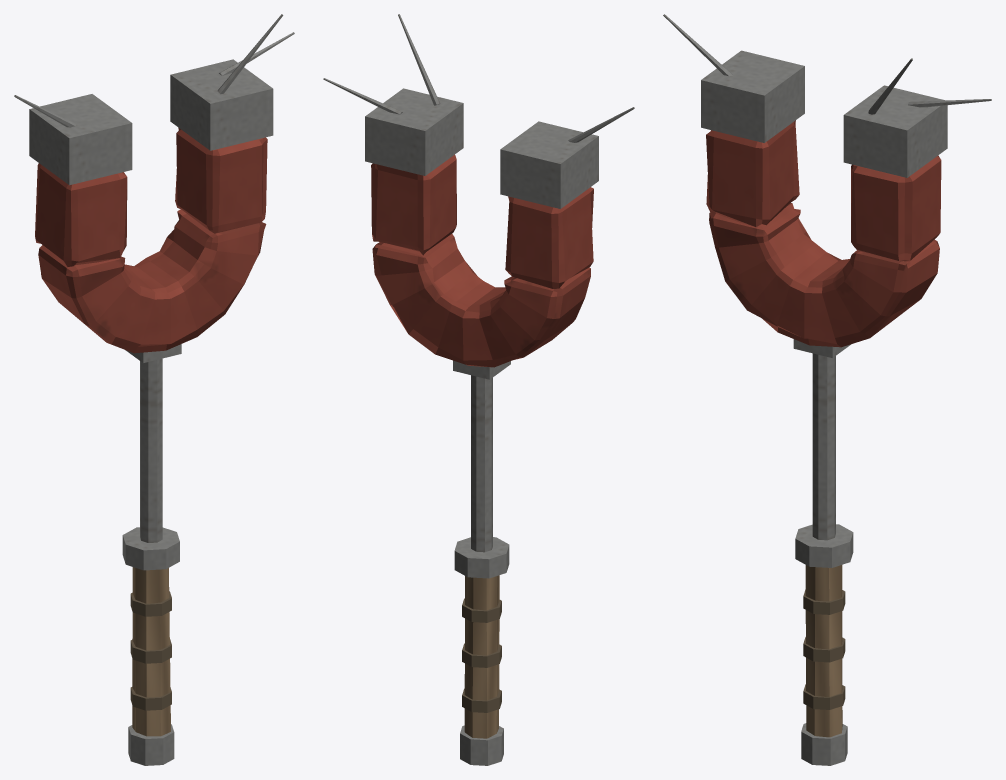
File: magnet_wand.glb
3 renders of one model, left to right at view 1: azimuth 30°, elevation 25°; view 2: azimuth 150°, elevation 25°; view 3: azimuth 330°, elevation 25°, orthographic. The views are drawn at different scales.
Parts seen in each view (by area): view 1: MagnetWand; view 2: MagnetWand; view 3: MagnetWand.
Boxes of the visible parts, left/top/right/bottom form: MagnetWand: left=14, top=14, right=294, bottom=765; MagnetWand: left=323, top=14, right=634, bottom=765; MagnetWand: left=663, top=14, right=991, bottom=765.
Bounding box in the file's own units: 0.4713 × 1.09 × 0.1161.
4 materials, 3 textured.
